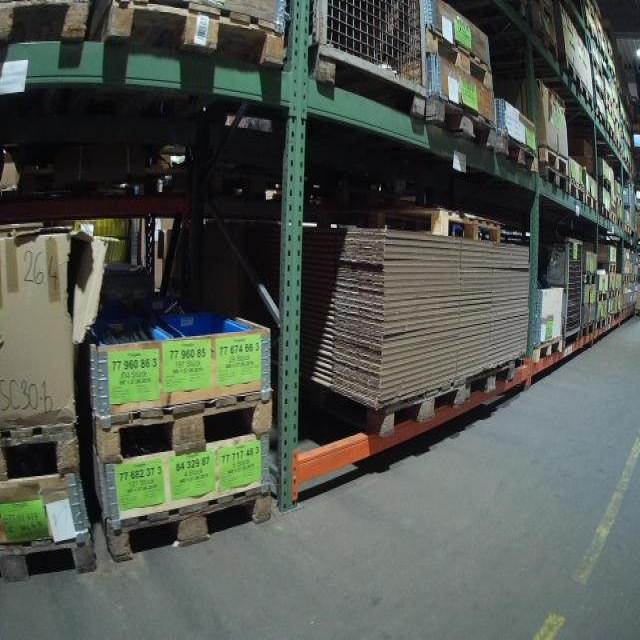pallet: (91, 384, 277, 468), (107, 478, 277, 561), (100, 3, 292, 71), (302, 371, 467, 440), (6, 518, 102, 583), (0, 414, 85, 483), (374, 197, 505, 237), (455, 351, 530, 415), (3, 3, 92, 49), (425, 27, 495, 84), (425, 95, 498, 149), (492, 132, 538, 181), (519, 15, 561, 62), (557, 51, 580, 100), (537, 143, 571, 175), (534, 167, 569, 198), (532, 334, 564, 366), (460, 1, 522, 16), (568, 175, 585, 209), (583, 75, 594, 122), (593, 100, 607, 134), (579, 321, 598, 340), (585, 192, 599, 215), (594, 173, 612, 189), (580, 270, 599, 285), (596, 260, 620, 271), (621, 219, 636, 236), (595, 317, 607, 338), (607, 120, 616, 144), (598, 205, 610, 223), (610, 212, 621, 228), (607, 310, 616, 329), (596, 292, 609, 305), (605, 287, 616, 302)
small_load_carrier: (159, 315, 259, 340), (90, 320, 170, 351)
stillage: (305, 0, 432, 130), (537, 230, 589, 354)
